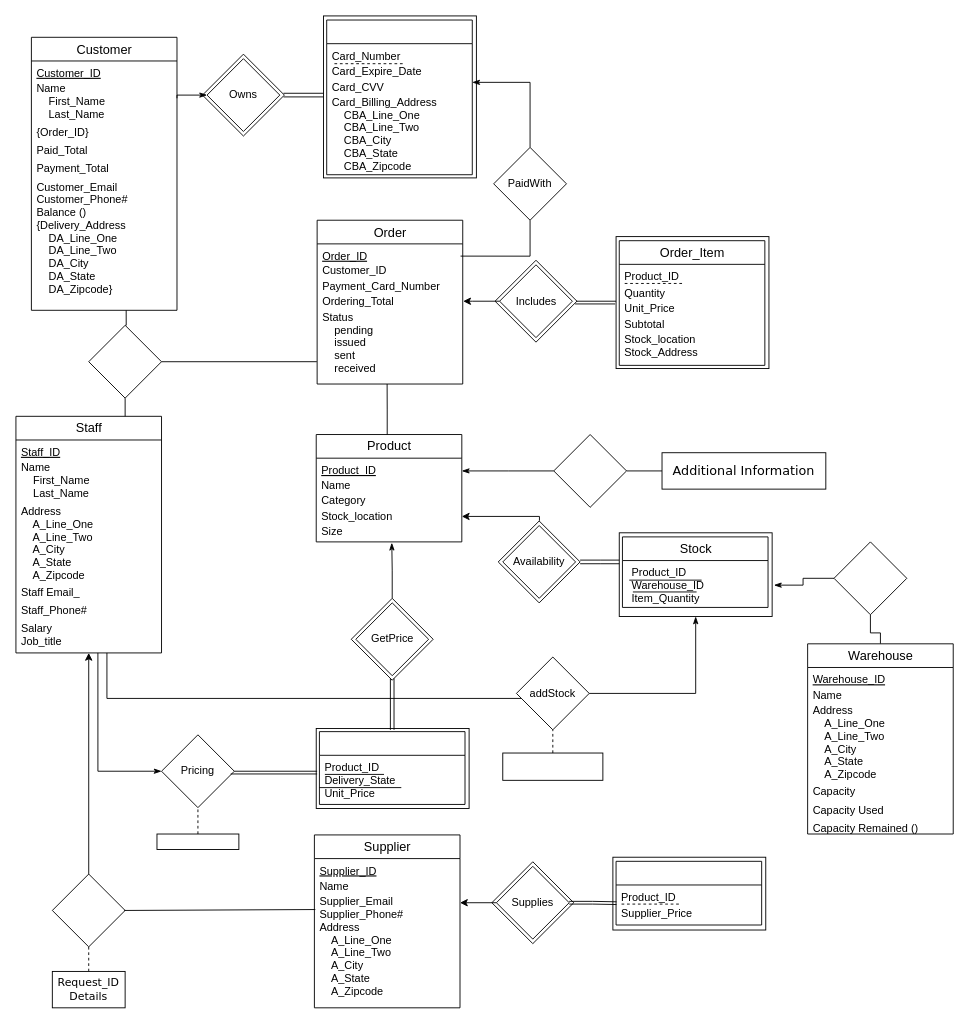
This 969x1026 diagram has some shape labels left out. Each missing label, with the box of its shape:
Add_Quantity: (502, 752, 603, 780)
Credit_Card: (326, 19, 472, 175)
Label: (553, 434, 627, 507)
New_Price: (156, 833, 239, 849)
Ordering: (88, 324, 162, 398)
Product_Pricing: (318, 731, 465, 804)
Request: (51, 873, 125, 947)
Stores: (833, 541, 907, 615)
Supplier_Item: (615, 860, 762, 925)
